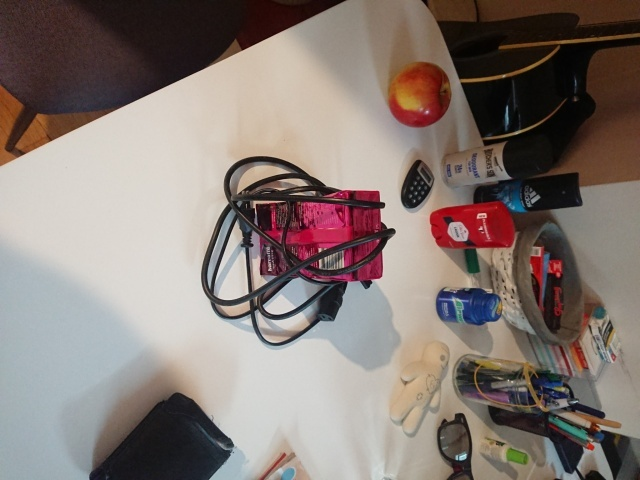Barcaffe Classic Original 225g: (253, 188, 387, 283)
